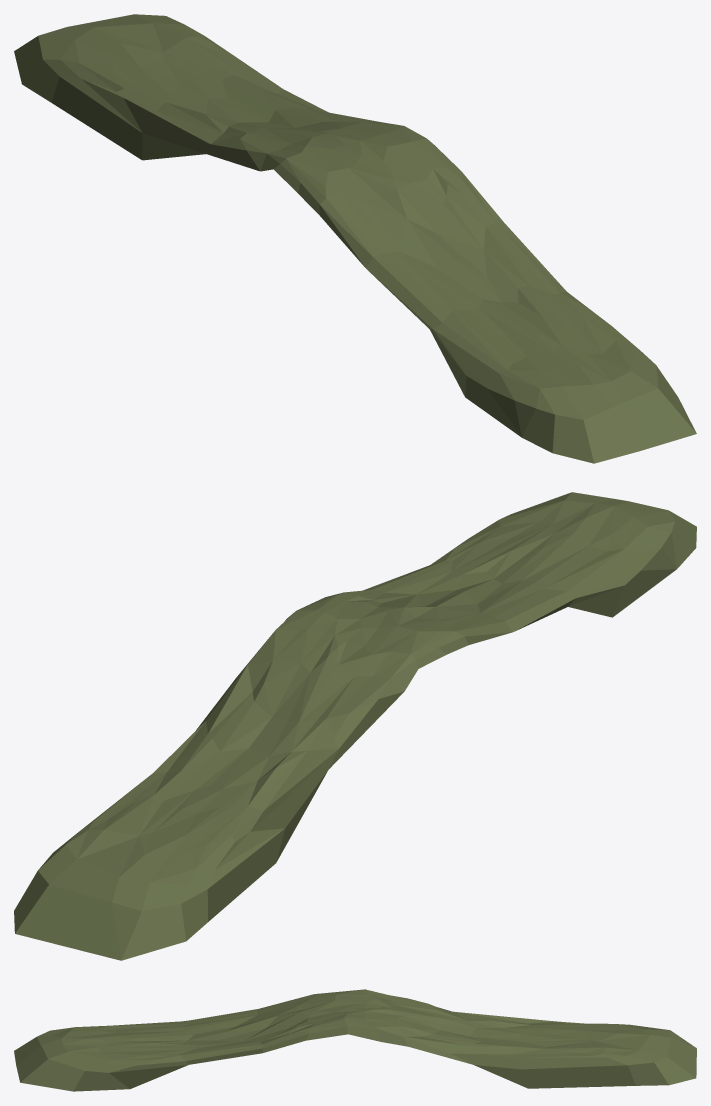
Rendered from env_bridge_stone_path.gltf.
3 renders of one model, top to bottom at view 1: azimuth 30°, elevation 25°; view 2: azimuth 150°, elevation 25°; view 3: azimuth 270°, elevation 25°, orthographic. The views are drawn at different scales.
Visible parts, largest first — view 1: env_bridge_stone_path; view 2: env_bridge_stone_path; view 3: env_bridge_stone_path.
Part boxes in pixels (left/top/right/bottom): env_bridge_stone_path: left=14, top=14, right=696, bottom=463; env_bridge_stone_path: left=14, top=492, right=696, bottom=960; env_bridge_stone_path: left=14, top=989, right=696, bottom=1091.
Size of the model in its own units: 5.79 by 3.34 by 33.06.
Materials: 1 (1 with a texture image).
